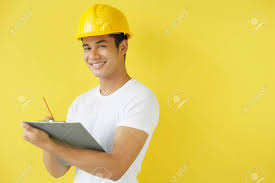Person_wearing_helmet: (71, 0, 132, 50)
